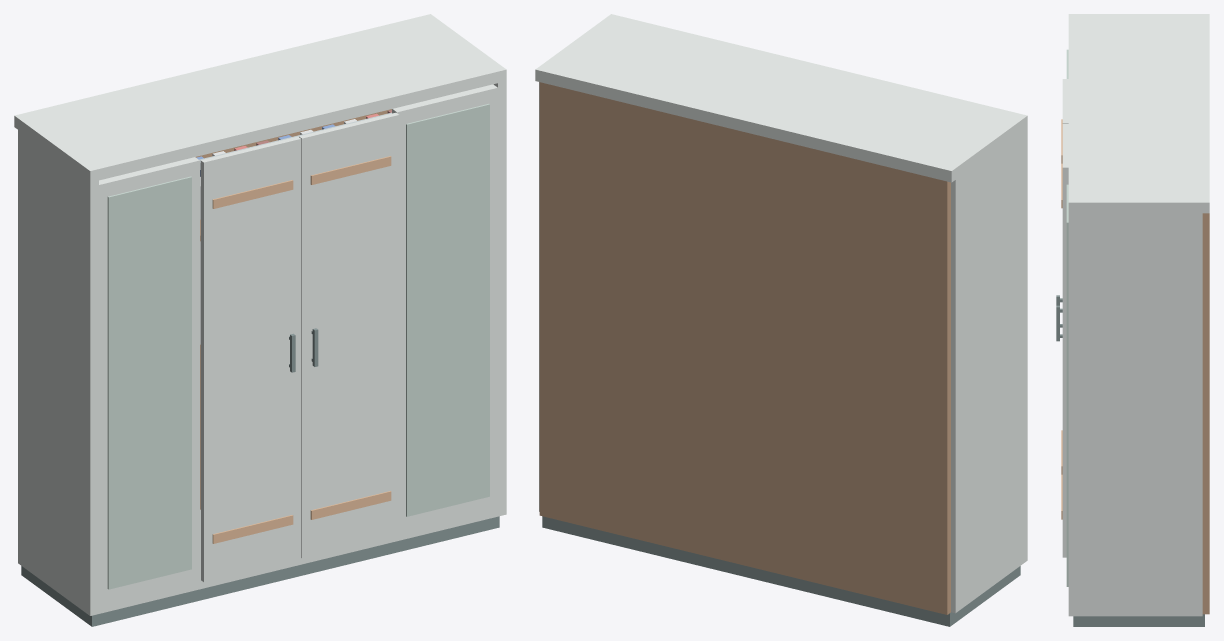
The model's file is wardrobeTriple.glb.
The picture shows the model from 3 angles, left to right: view 1: azimuth 30°, elevation 25°; view 2: azimuth 150°, elevation 25°; view 3: azimuth 270°, elevation 25°; orthographic projection. The views are drawn at different scales.
Parts seen in each view (by area): view 1: wardrobeTriple, anim:doorL, anim:doorR, anim:interior; view 2: wardrobeTriple; view 3: wardrobeTriple, anim:doorR, anim:doorL.
Part boxes in pixels (left/top/right/bottom): wardrobeTriple: left=14, top=14, right=506, bottom=626; anim:doorL: left=200, top=136, right=301, bottom=582; anim:doorR: left=299, top=112, right=399, bottom=558; anim:interior: left=196, top=110, right=391, bottom=344; wardrobeTriple: left=535, top=14, right=1027, bottom=626; wardrobeTriple: left=1066, top=14, right=1209, bottom=626; anim:doorR: left=1056, top=123, right=1068, bottom=557; anim:doorL: left=1056, top=79, right=1068, bottom=474.
Size of the model in its own units: 0.95 by 1 by 0.3265.
